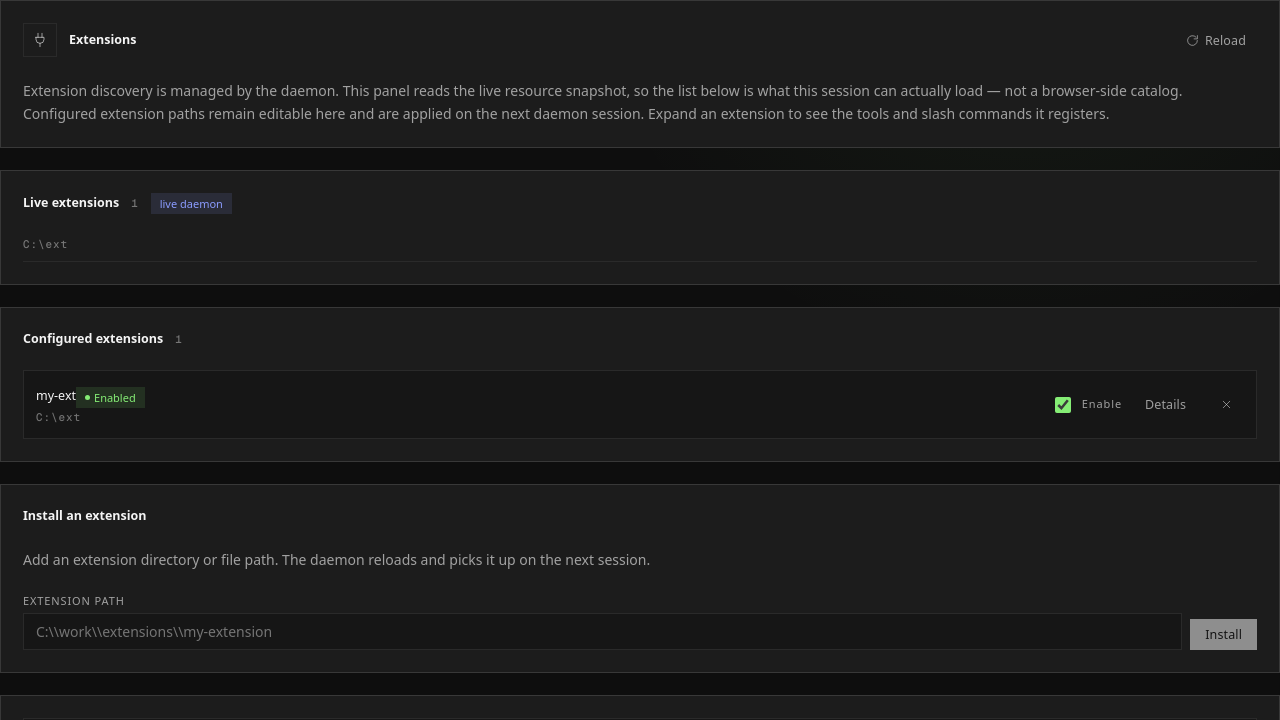
Test: ExtensionsPanel › removes an extension and reports the result
Expected: the text "my-ext" is shown, [36,387,76,404]
Click the button named "remove my-ext" at (1226, 405), box [1209,394,1244,415]
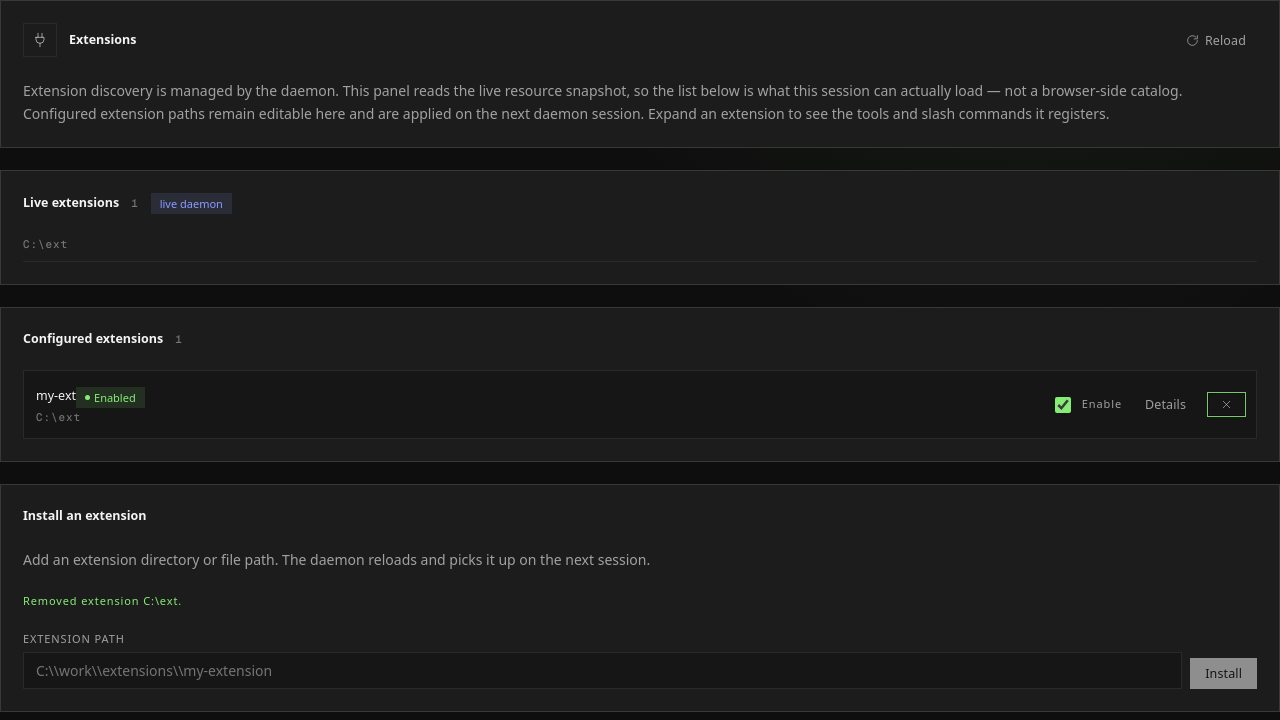
Now the text "Removed extension C:\\ext." is shown, box [23,593,182,608]
